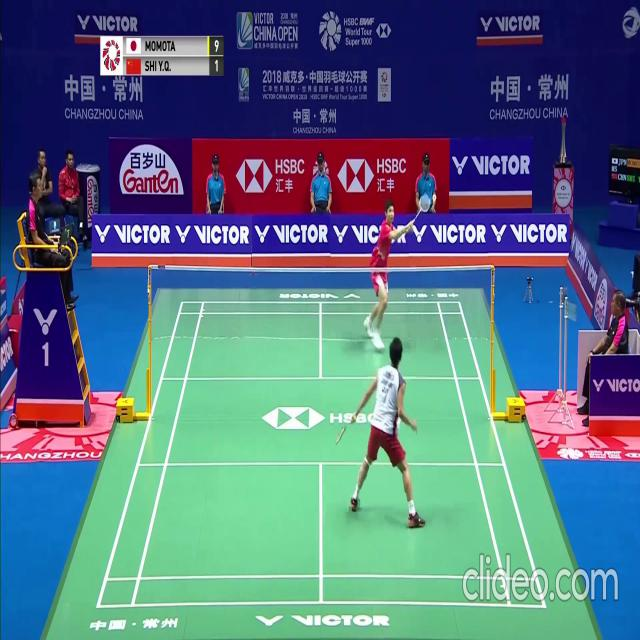Shuttlecock: (432, 194, 437, 201)
